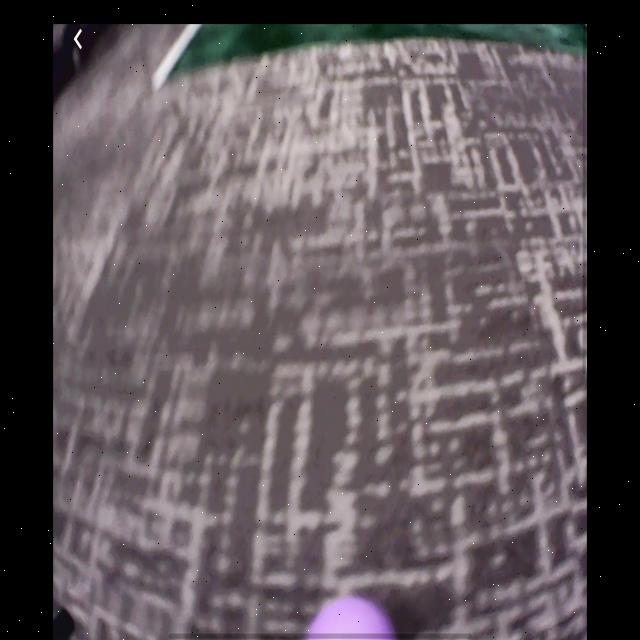ball: (304, 599, 393, 640)
